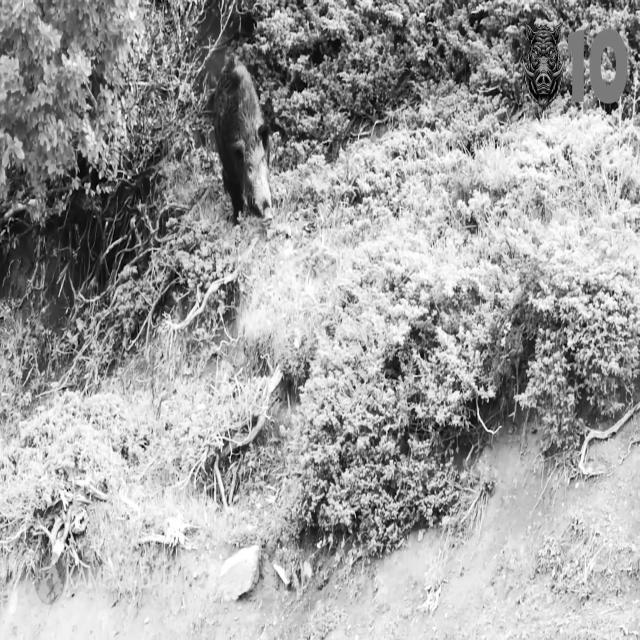boar: (214, 55, 272, 223)
